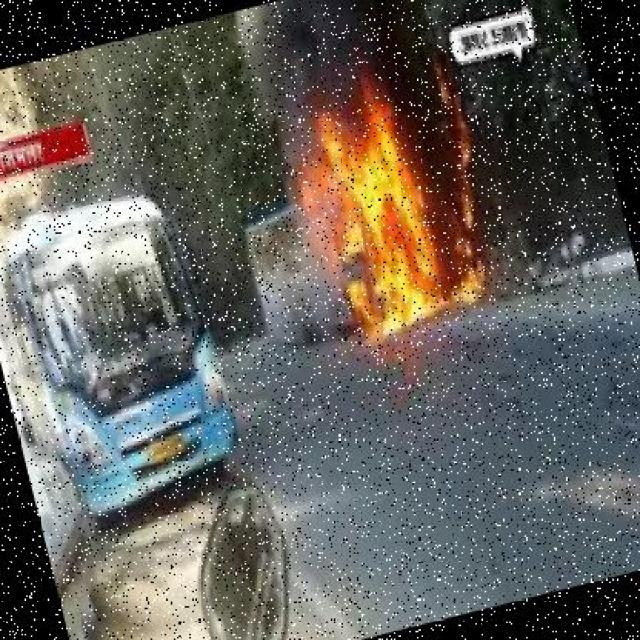fire: (266, 44, 517, 370)
